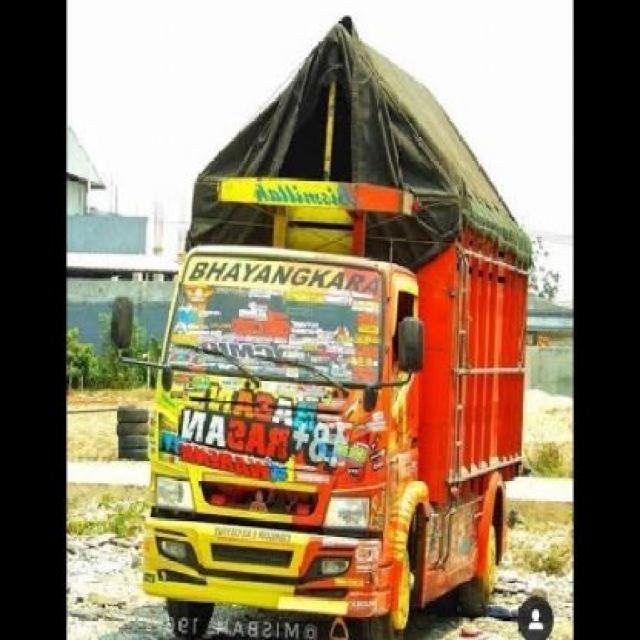truck: (114, 12, 534, 639)
